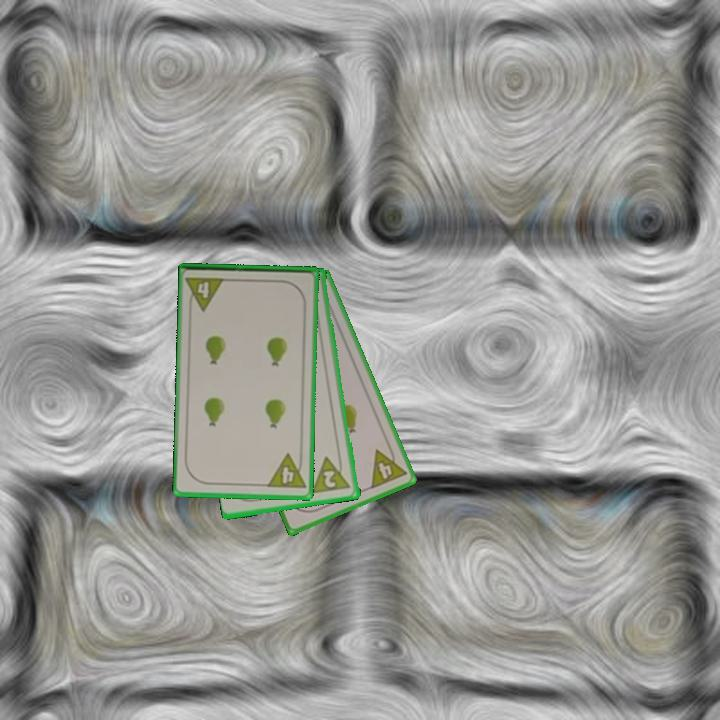2p: (310, 452, 354, 497)
4p: (367, 441, 410, 492), (264, 450, 308, 492), (183, 273, 228, 313)
